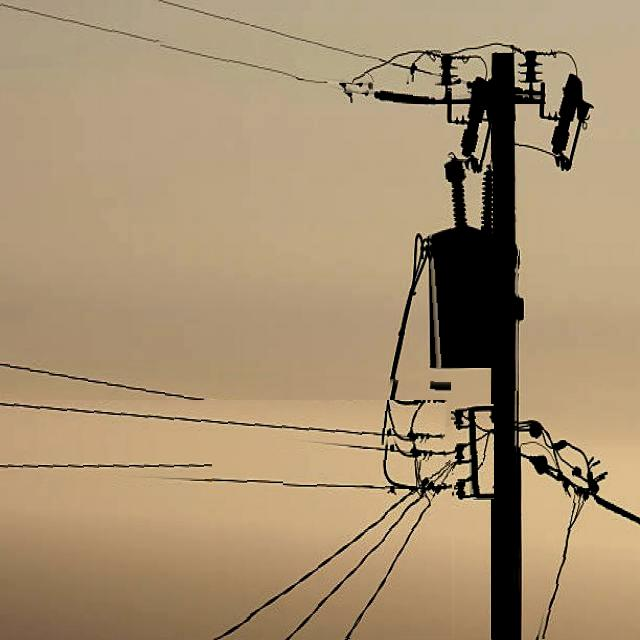crossarm: (467, 405, 494, 499), (384, 91, 547, 104)
pole: (491, 53, 519, 639)
transformer: (428, 160, 493, 368)
wire: (216, 460, 451, 639), (2, 2, 375, 95), (285, 464, 452, 639), (0, 359, 422, 426), (158, 0, 441, 81), (0, 400, 446, 446), (345, 473, 454, 639), (538, 489, 586, 639), (0, 462, 456, 474)
